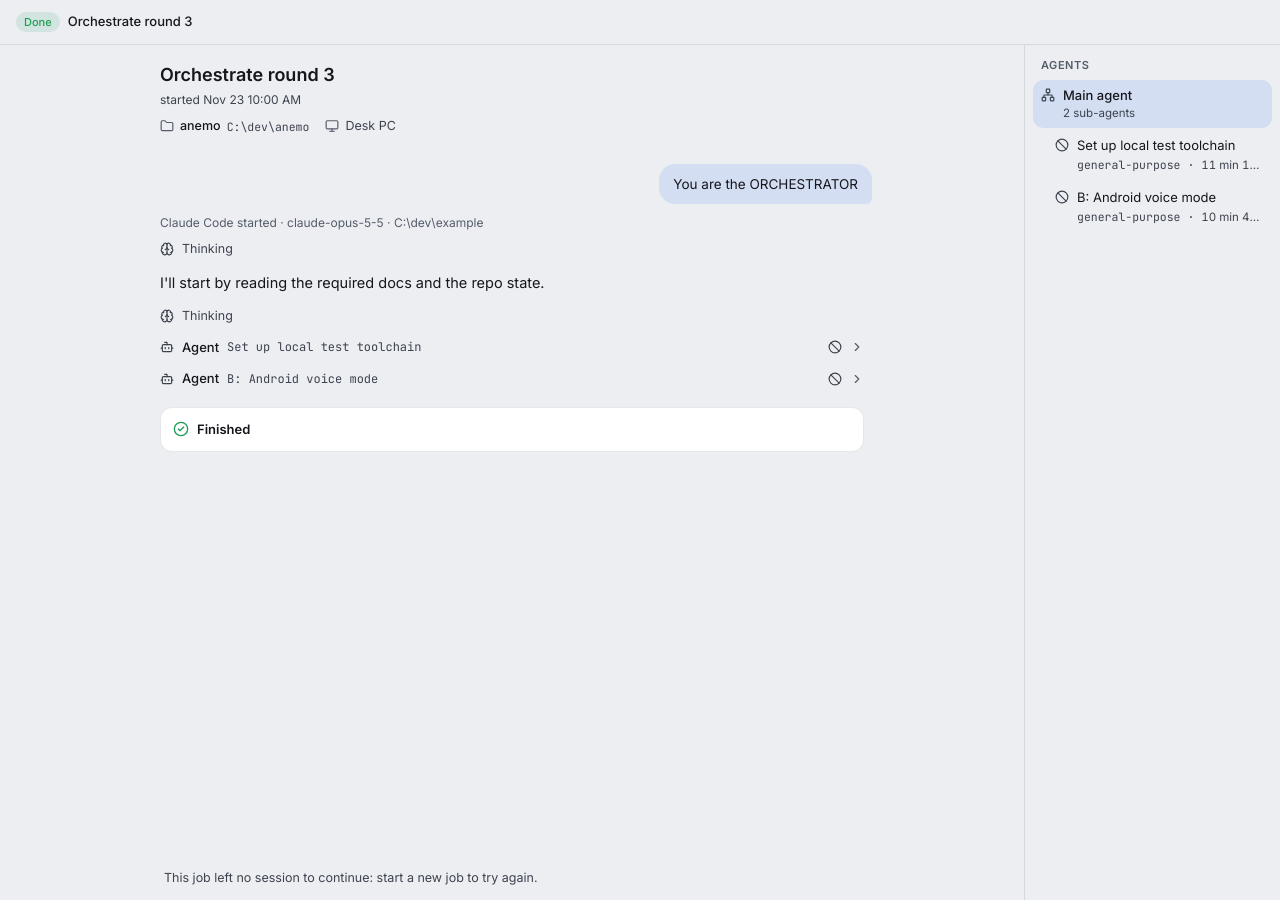
a job with sub-agents › lists Main and each sub-agent beside the thread, and shows only the picked agent's events
The image size is (1280, 900).
Expected: the text "Main agent" is shown, [1063,86,1132,102]
Expected: the button "Set up local test toolchain" shows "27 tool calls", [1033,130,1272,180]
Click the 1st text "B: Android voice mode" at (1147,197), box [1077,189,1216,205]
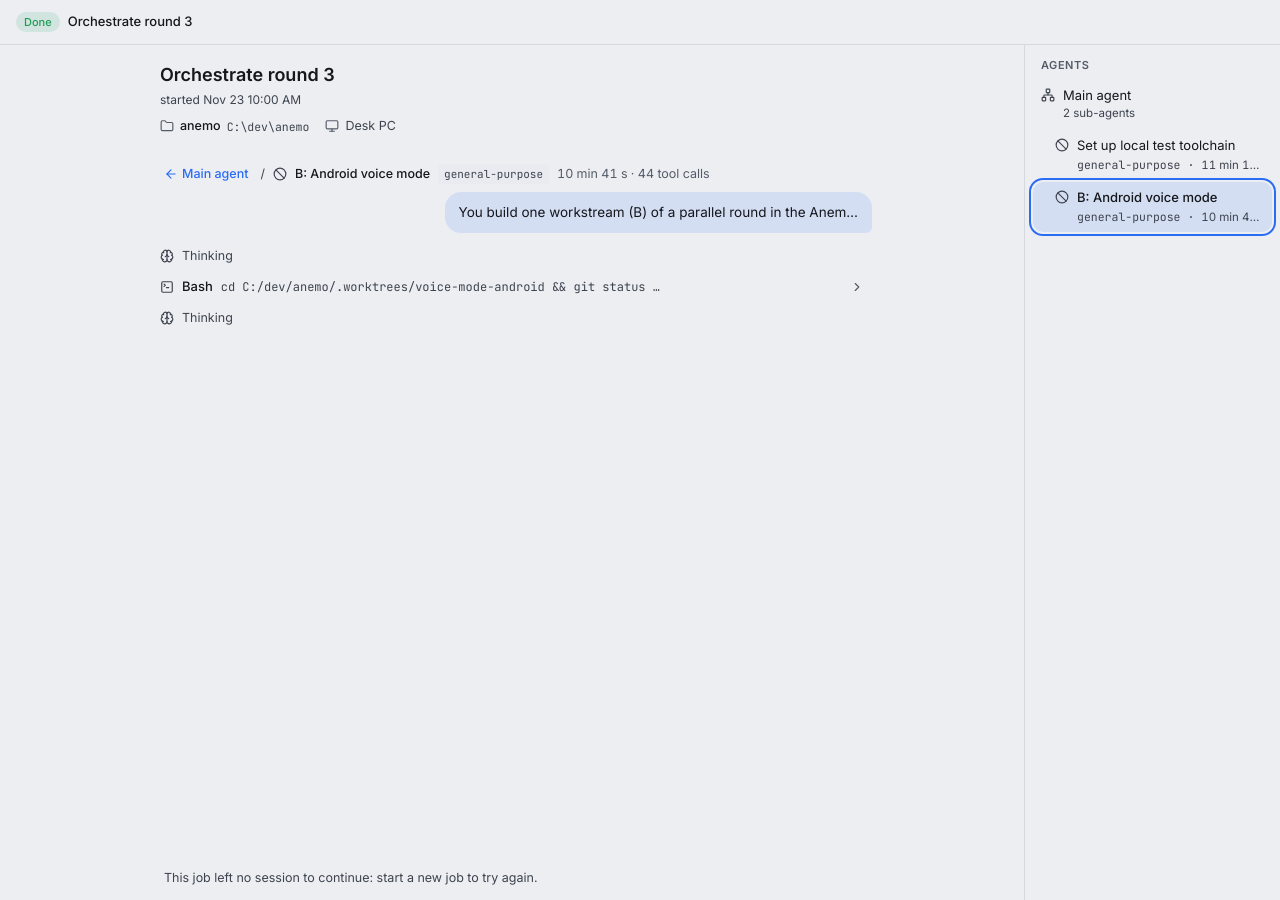
Expected: the text "voice-mode-android && git status" is shown, [221,279,660,295]
Expected: the text "start by reading the required docs" is gone
Click the button "Main agent" at (206,174), box [160,165,252,183]
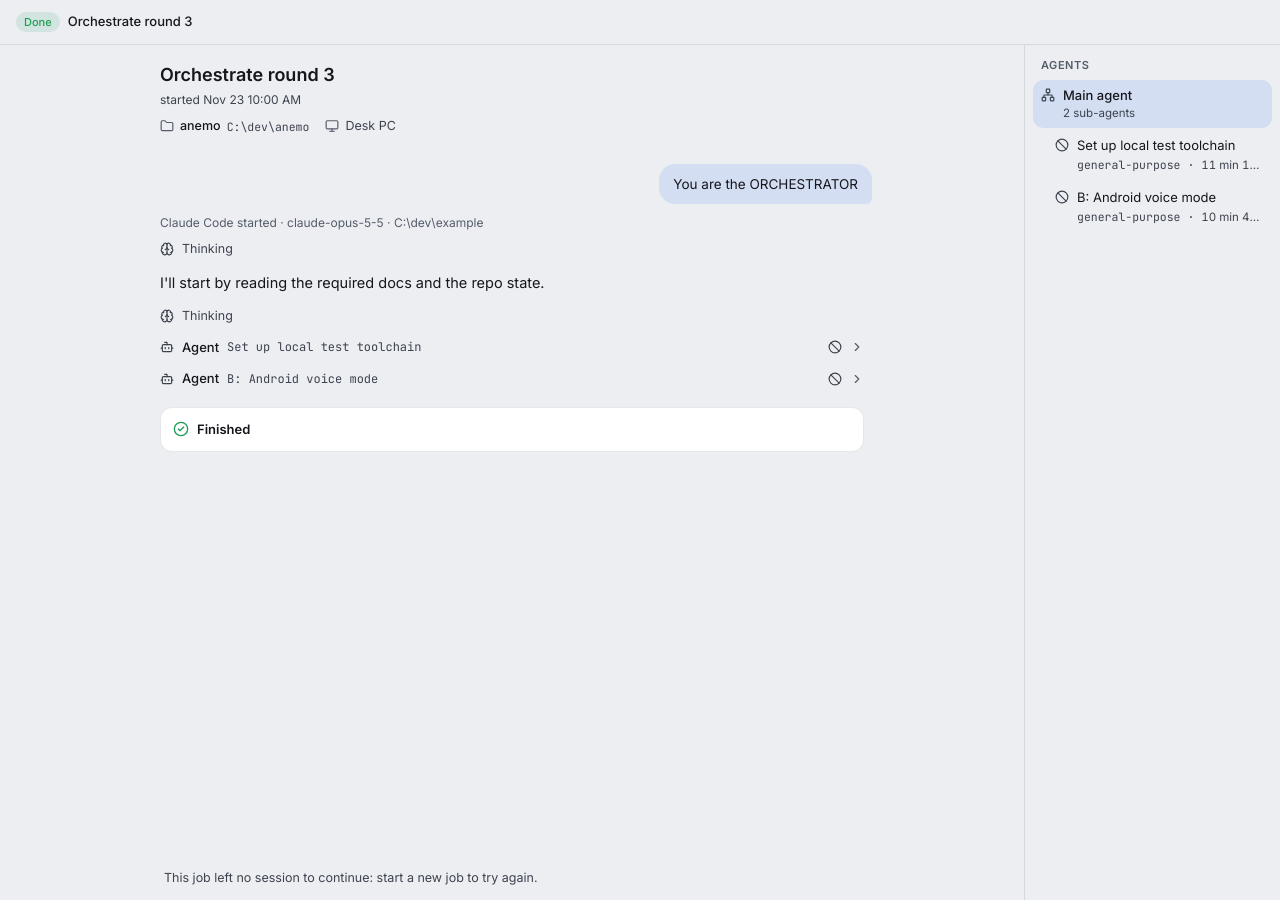
Expected: the text "I'll start by reading the required docs and the repo state." is shown, [160,274,545,291]
